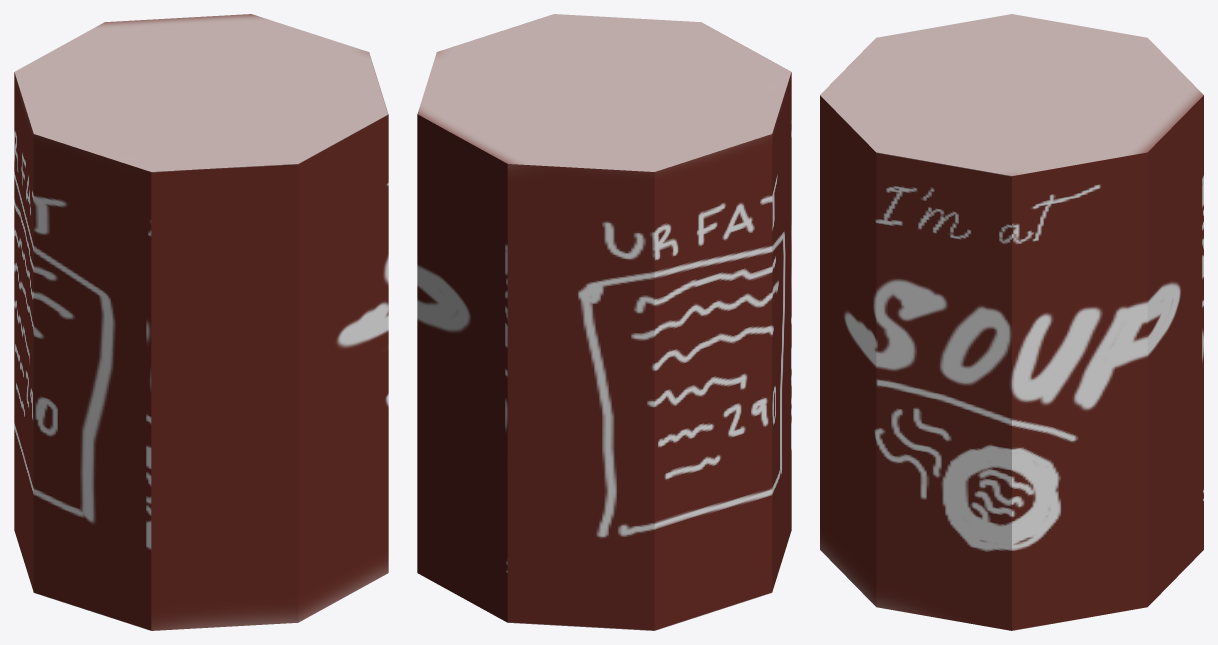
The model's file is soup.fbx.
The picture shows the model from 3 angles, left to right: view 1: azimuth 30°, elevation 25°; view 2: azimuth 150°, elevation 25°; view 3: azimuth 270°, elevation 25°; orthographic projection.
Parts seen in each view (by area): view 1: Cylinder; view 2: Cylinder; view 3: Cylinder.
Part boxes in pixels (left/top/right/bottom): Cylinder: left=14, top=14, right=388, bottom=630; Cylinder: left=417, top=14, right=791, bottom=630; Cylinder: left=820, top=14, right=1203, bottom=630.
Bounding box in the file's own units: 200 × 261 × 200.
